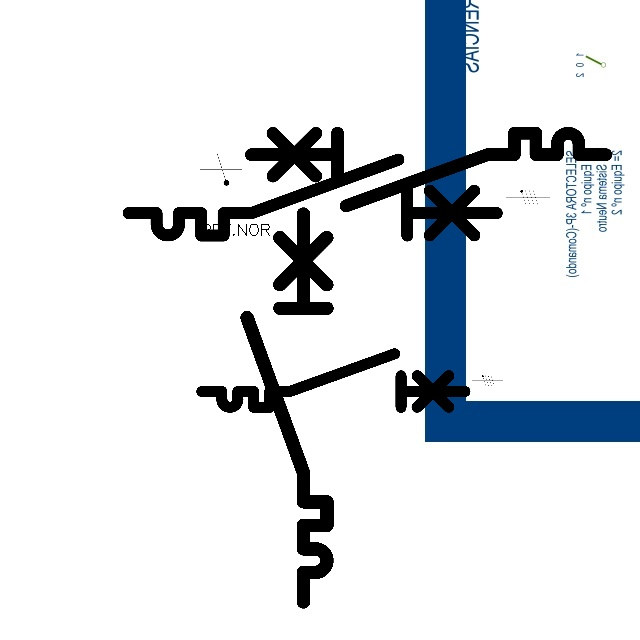interruptor_termomagnetico: (237, 204, 337, 612), (119, 150, 506, 245), (242, 124, 615, 215), (195, 347, 471, 414)
